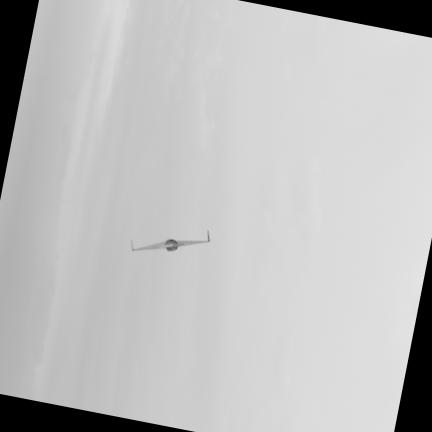Shahed: (129, 228, 210, 253)
